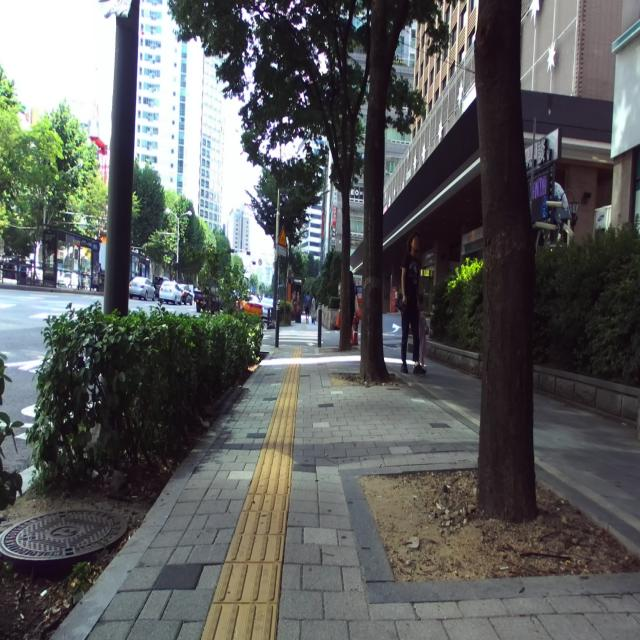횡단보도: (274, 330, 323, 346)
